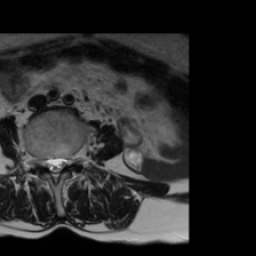CCS_normal: (51, 151, 58, 188)
LFS_normal: (66, 147, 75, 174)
LLS_normal: (58, 148, 66, 178)
RFS_normal: (38, 148, 44, 175)
RLS_normal: (44, 150, 51, 179)
